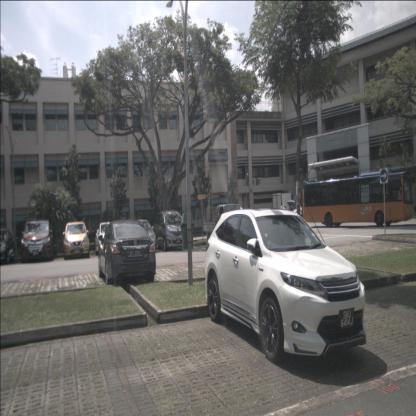human-pedestrian-adult: (282, 206, 286, 222), (280, 203, 283, 223), (300, 204, 302, 224), (210, 211, 212, 226)
vehicle-bus-rigid: (302, 171, 414, 228)
vehicle-car: (205, 208, 367, 362), (98, 219, 156, 287), (20, 219, 56, 263), (152, 211, 186, 252), (63, 221, 90, 260), (131, 220, 156, 253), (95, 222, 117, 256), (0, 227, 16, 265)
vehicle-truck: (203, 203, 240, 249), (272, 193, 295, 221)
